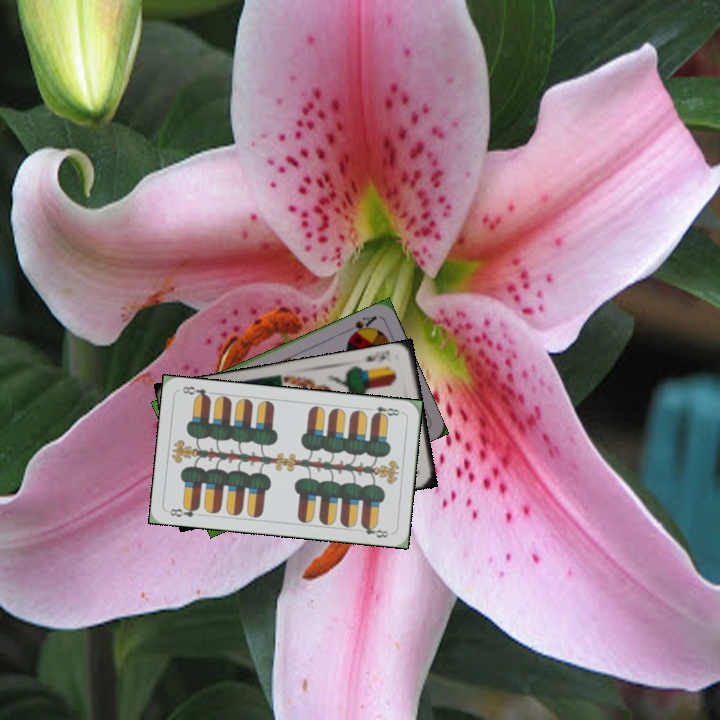E8: (364, 402, 405, 420), (166, 502, 202, 520)
EK: (361, 347, 393, 364)
SA: (345, 311, 380, 340)
